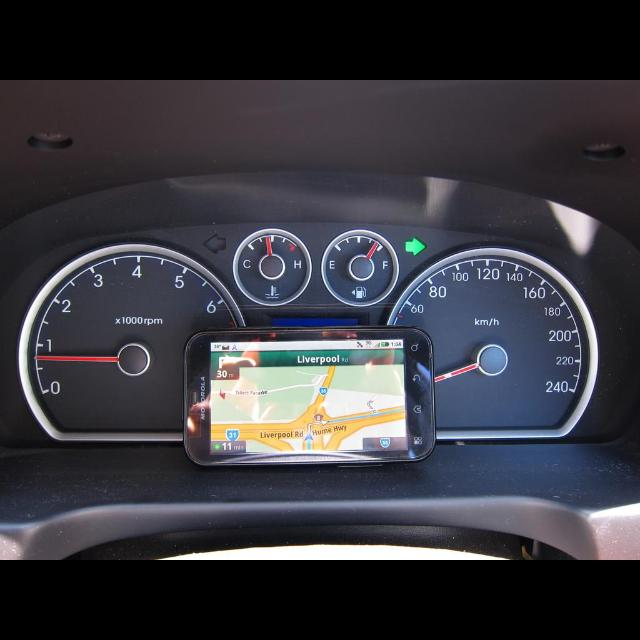Smartphone: (177, 329, 435, 467)
